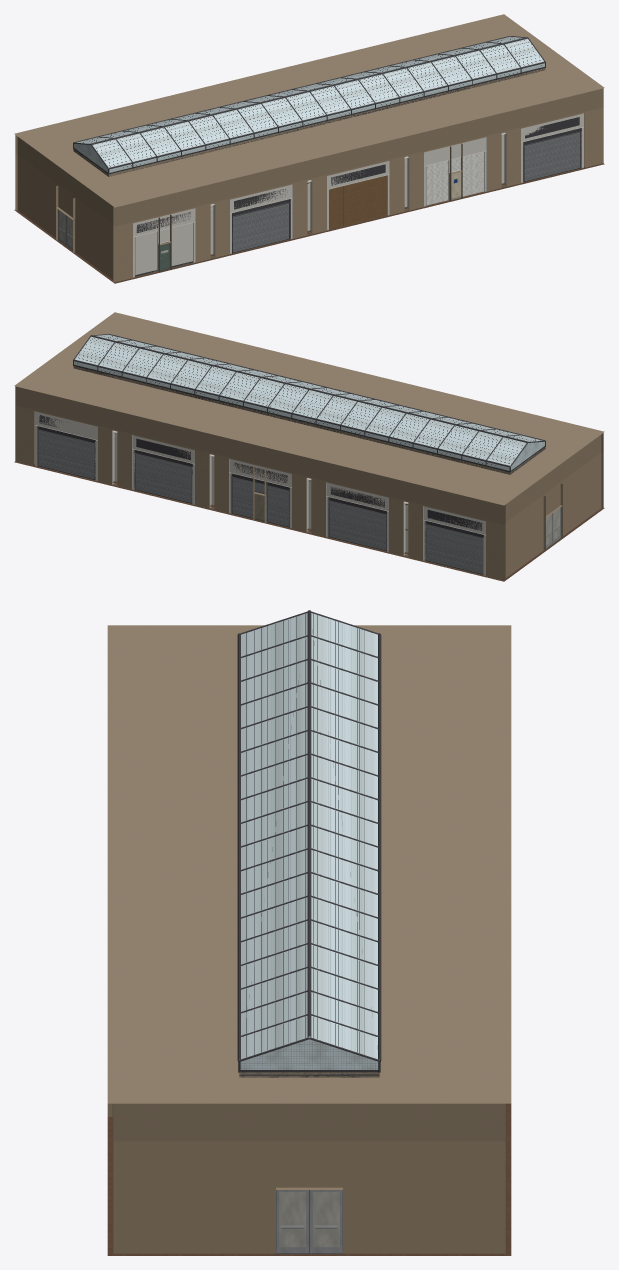
File: wing_cinema.glb
3 views of the same model, one above another, from view 1: azimuth 30°, elevation 25°; view 2: azimuth 150°, elevation 25°; view 3: azimuth 270°, elevation 25° (orthographic). The views are drawn at different scales.
Visible parts, largest first — view 1: Ceiling_Paint, Skylight_Glass, Wall_Plaster, Wall_Upper, Metal_Dark, Trim_Paint, Shutter_Metal, Hoarding_Ply, Tile_White, Floor_Border; view 2: Ceiling_Paint, Skylight_Glass, Wall_Plaster, Wall_Upper, Metal_Dark, Shutter_Metal, Trim_Paint, Floor_Border; view 3: Ceiling_Paint, Skylight_Glass, Wall_Plaster, Wall_Upper, Metal_Dark, Floor_Border, DoorLeaf_entrance_A, DoorLeaf_entrance_B.
Part boxes in pixels (x1,y1,x2,y2): Ceiling_Paint: [14, 14, 604, 207]; Skylight_Glass: [74, 36, 544, 172]; Wall_Plaster: [15, 107, 603, 282]; Wall_Upper: [15, 88, 603, 226]; Metal_Dark: [73, 36, 581, 276]; Trim_Paint: [133, 113, 584, 277]; Shutter_Metal: [232, 131, 581, 252]; Hoarding_Ply: [329, 175, 387, 229]; Tile_White: [426, 151, 484, 205]; Floor_Border: [14, 163, 604, 283]; Ceiling_Paint: [14, 312, 604, 505]; Skylight_Glass: [74, 334, 544, 470]; Wall_Plaster: [15, 405, 603, 580]; Wall_Upper: [15, 386, 603, 524]; Metal_Dark: [37, 334, 545, 574]; Shutter_Metal: [37, 429, 483, 573]; Trim_Paint: [34, 411, 485, 575]; Floor_Border: [14, 461, 604, 581]; Ceiling_Paint: [107, 625, 511, 1103]; Skylight_Glass: [239, 613, 379, 1069]; Wall_Plaster: [107, 1103, 505, 1253]; Wall_Upper: [113, 1103, 505, 1141]; Metal_Dark: [237, 610, 381, 1077]; Floor_Border: [107, 1103, 511, 1255]; DoorLeaf_entrance_A: [276, 1190, 309, 1253]; DoorLeaf_entrance_B: [309, 1190, 342, 1253].
Bounding box in the file's own units: 40.4 × 7.62 × 14.4.
Materials: 26 (19 with a texture image).
